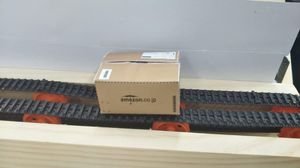box1: (92, 47, 182, 116)
